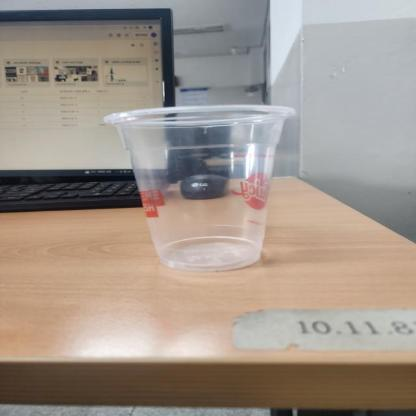Plastic Cup: (104, 104, 298, 272)
